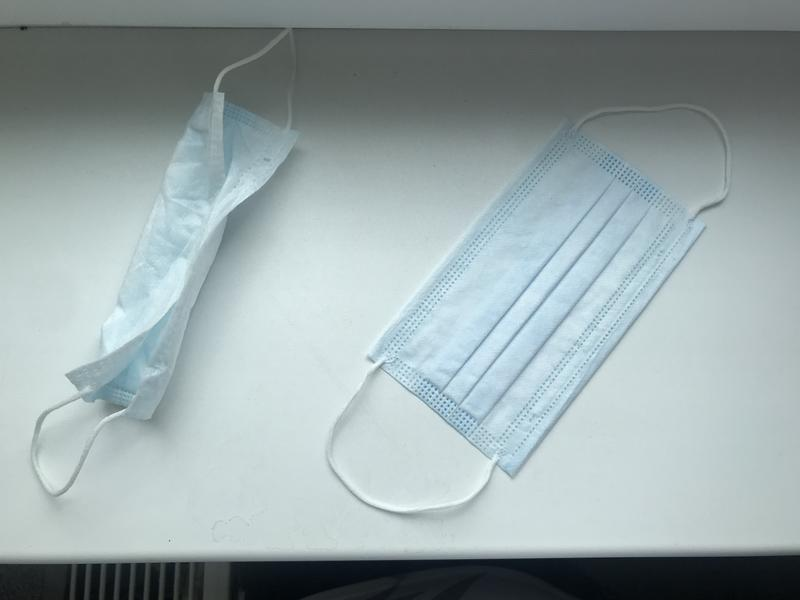medical_mask: (325, 103, 732, 512), (30, 26, 298, 499)
